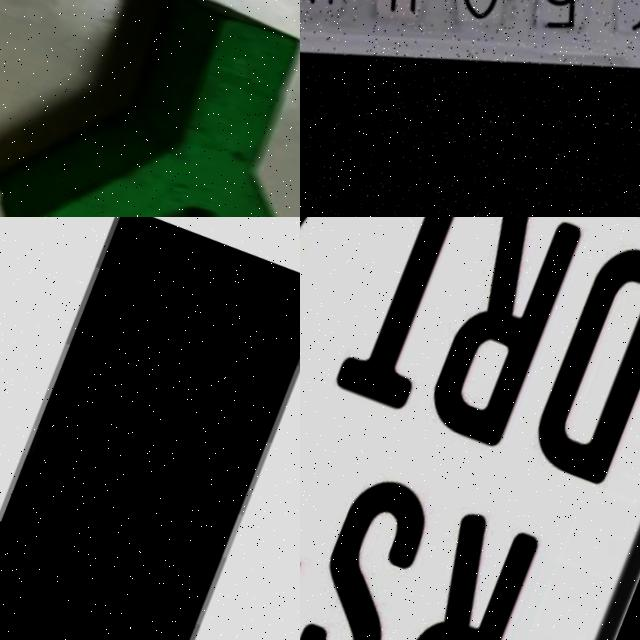0: (416, 0, 536, 56)
4: (341, 0, 455, 44), (300, 0, 371, 35)
5: (495, 0, 618, 65)
6: (575, 0, 640, 69)
7: (300, 217, 376, 379)
D: (497, 240, 640, 505)
F: (0, 217, 300, 640)
R: (394, 217, 600, 467), (347, 505, 549, 640)
S: (300, 471, 445, 640)
T: (303, 217, 501, 430)
Y: (0, 0, 300, 217)
